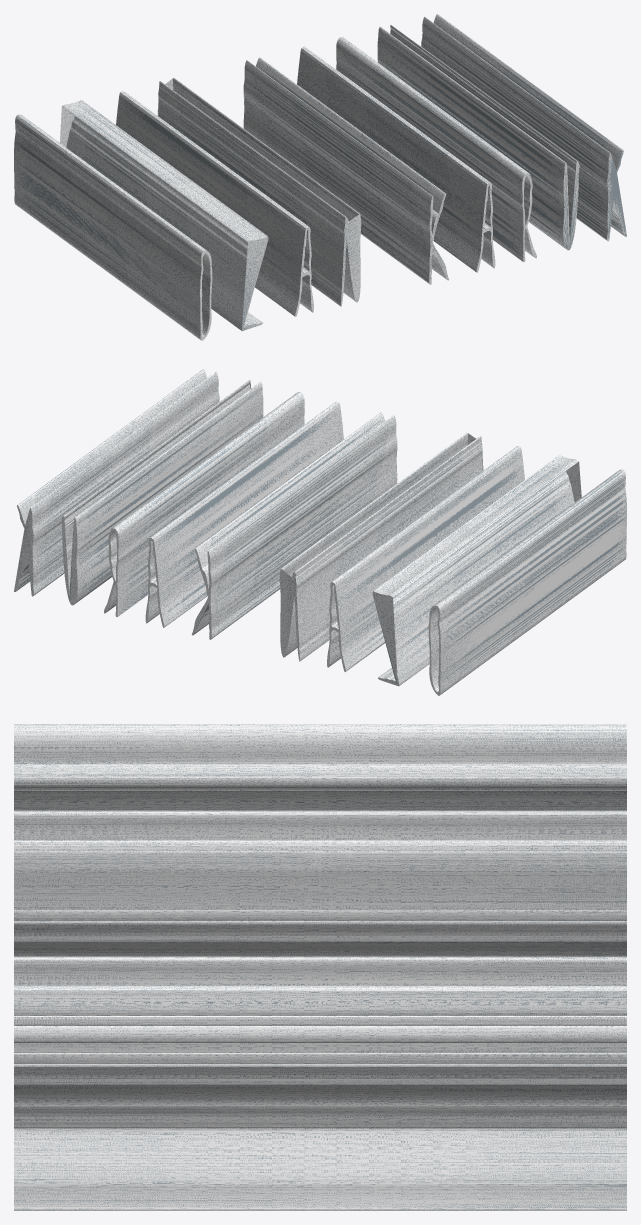
File: OZAN KARUK.fbx
The picture shows the model from 3 angles, top to bottom: view 1: azimuth 30°, elevation 25°; view 2: azimuth 150°, elevation 25°; view 3: azimuth 270°, elevation 25°; orthographic projection. The views are drawn at different scales.
Parts seen in each view (by area): view 1: Group1; view 2: Group1; view 3: Group1.
Boxes of the visible parts, box(x1,y1,x2,y2) form: Group1: box(14, 14, 626, 340); Group1: box(14, 369, 626, 695); Group1: box(14, 724, 626, 1210).
Bounding box in the file's own units: 2648 × 532 × 2000.
